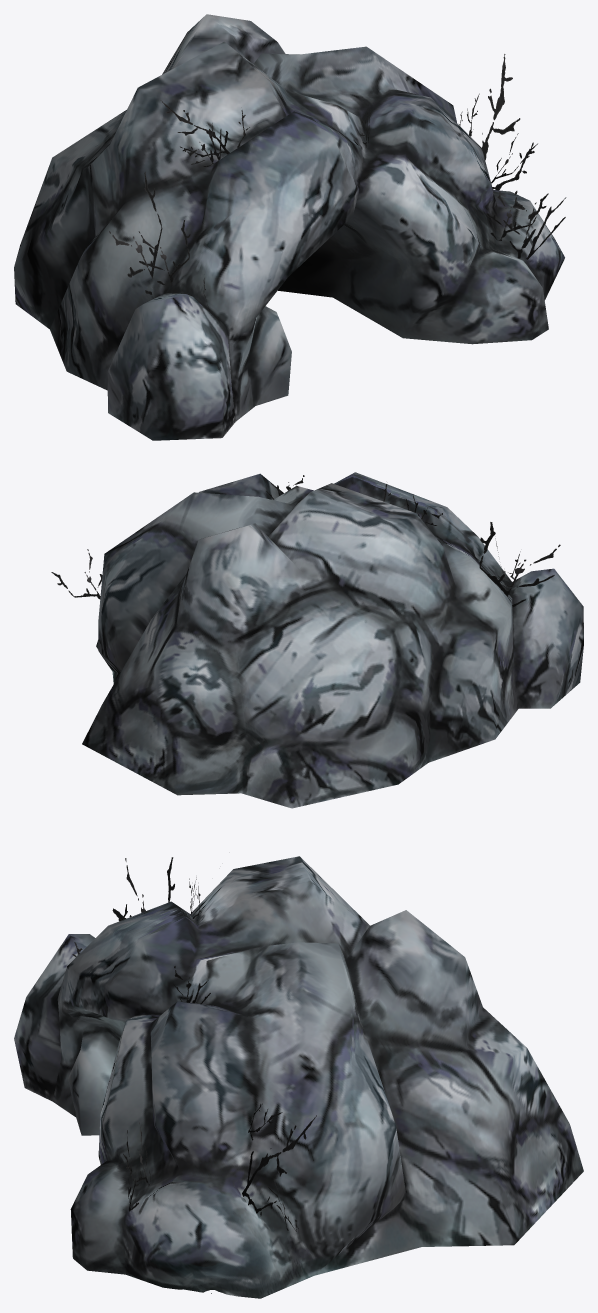
The model's file is PRP_EntCaveSmall.FBX.
The picture shows the model from 3 angles, top to bottom: view 1: azimuth 30°, elevation 25°; view 2: azimuth 150°, elevation 25°; view 3: azimuth 270°, elevation 25°; orthographic projection. The views are drawn at different scales.
Parts seen in each view (by area): view 1: PRP_EntCaveSmall; view 2: PRP_EntCaveSmall; view 3: PRP_EntCaveSmall.
Boxes of the visible parts, x1,y1,x2,y2 form: PRP_EntCaveSmall: (14, 14, 566, 440); PRP_EntCaveSmall: (51, 472, 583, 808); PRP_EntCaveSmall: (14, 856, 583, 1298).
Size of the model in its own units: 1246 by 564 by 1041.
